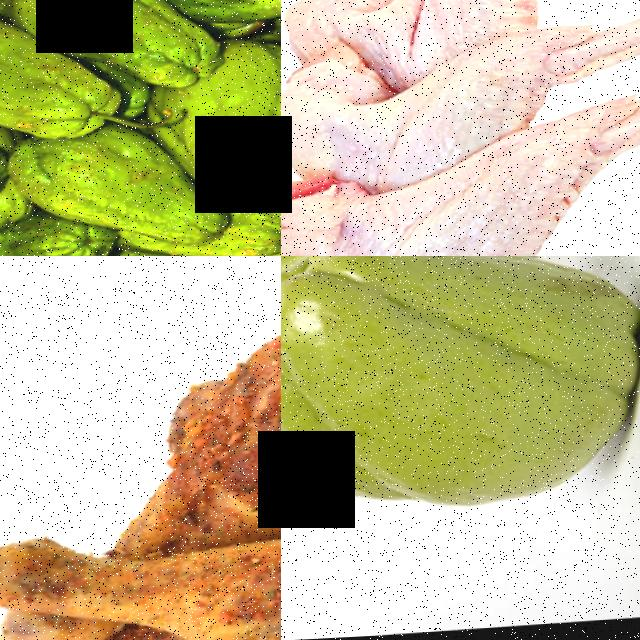chayote: (281, 256, 640, 572), (24, 135, 210, 256), (8, 0, 218, 70)
chicken thigh: (0, 516, 281, 640)
chicken wing: (281, 105, 640, 256), (281, 0, 640, 79)
